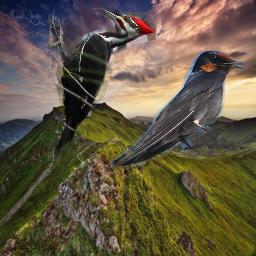Swallow: (111, 50, 244, 167)
Woodpecker: (48, 8, 156, 161)
